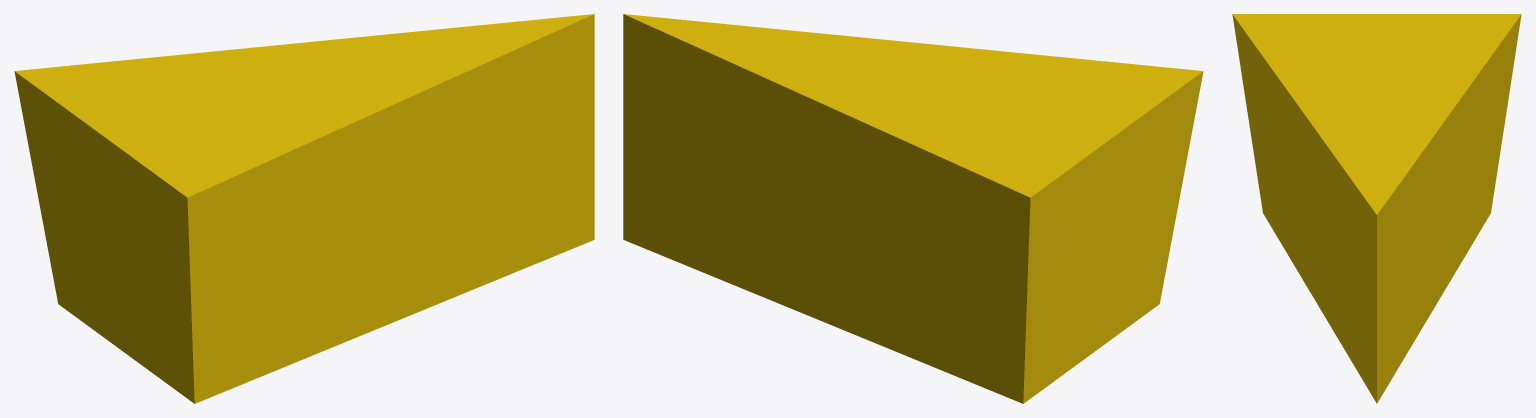
File: Cheese.fbx
3 renders of one model, left to right at view 1: azimuth 30°, elevation 25°; view 2: azimuth 150°, elevation 25°; view 3: azimuth 270°, elevation 25°, orthographic. The views are drawn at different scales.
Visible parts, largest first — view 1: cheese; view 2: cheese; view 3: cheese.
Part boxes in pixels (box(x1,y1,x2,y2)): cheese: box(14, 14, 594, 403); cheese: box(623, 14, 1203, 403); cheese: box(1232, 14, 1521, 403).
Bounding box in the file's own units: 401 × 175 × 244.
